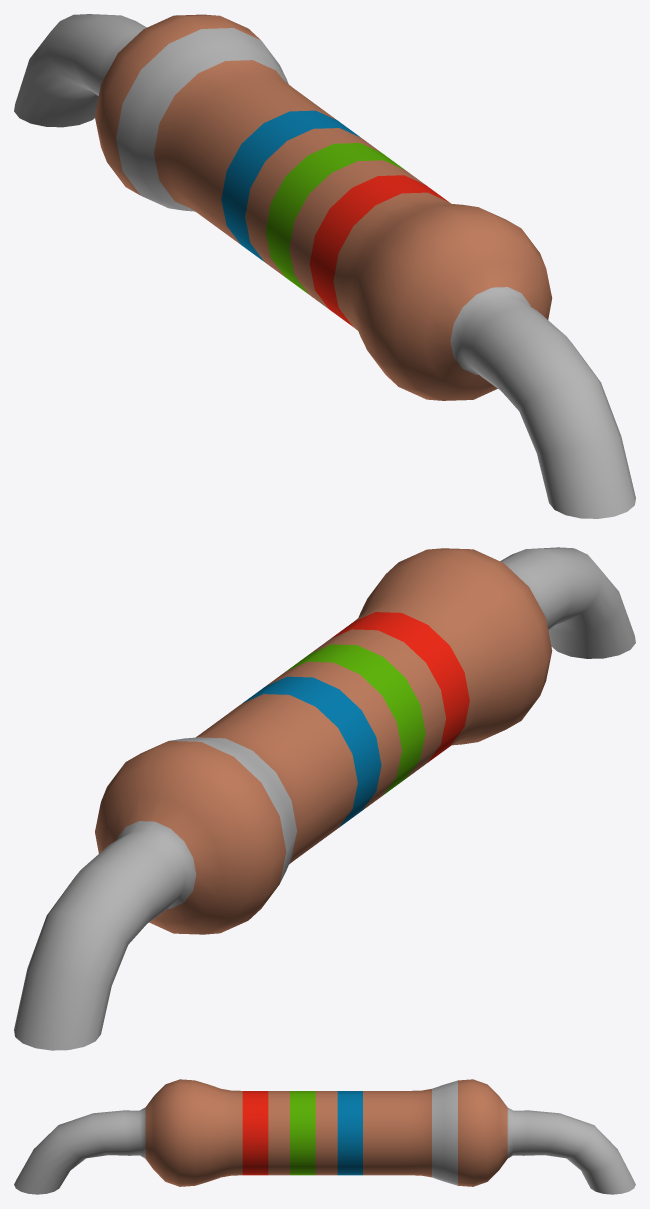
Rendered from res2.fbx.
The picture shows the model from 3 angles, top to bottom: view 1: azimuth 30°, elevation 25°; view 2: azimuth 150°, elevation 25°; view 3: azimuth 270°, elevation 25°; orthographic projection. The views are drawn at different scales.
Parts seen in each view (by area): view 1: Resistor2; view 2: Resistor2; view 3: Resistor2.
Part boxes in pixels (<box>): Resistor2: <box>14,14,635,518</box>; Resistor2: <box>14,547,635,1050</box>; Resistor2: <box>14,1079,635,1194</box>.
Bounding box in the file's own units: 177 × 182 × 1022.
